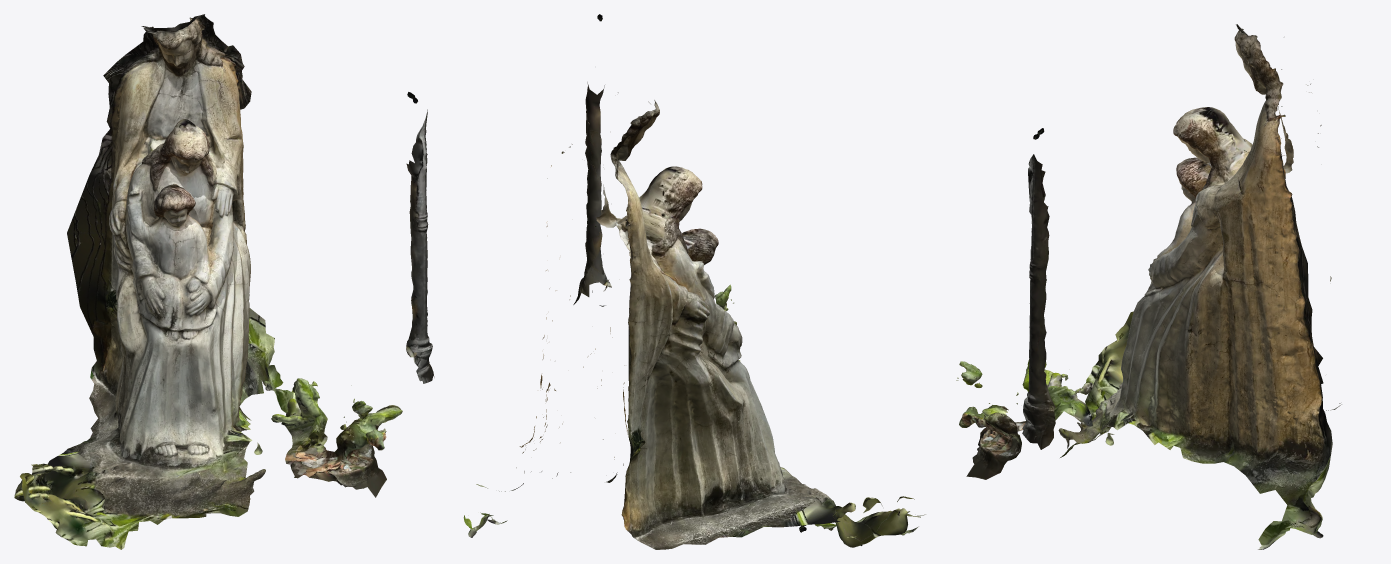
3 renders of one model, left to right at view 1: azimuth 30°, elevation 25°; view 2: azimuth 150°, elevation 25°; view 3: azimuth 270°, elevation 25°, orthographic. The views are drawn at different scales.
Parts seen in each view (by area): view 1: 3DModel_Custom; view 2: 3DModel_Custom; view 3: 3DModel_Custom.
Part boxes in pixels (x1=…): 3DModel_Custom: x1=14, y1=14, x2=434, y2=549; 3DModel_Custom: x1=463, y1=14, x2=925, y2=549; 3DModel_Custom: x1=956, y1=24, x2=1341, y2=549.
Bounding box in the file's own units: 7.75 × 8.93 × 7.19.
Materials: 1 (1 with a texture image).
